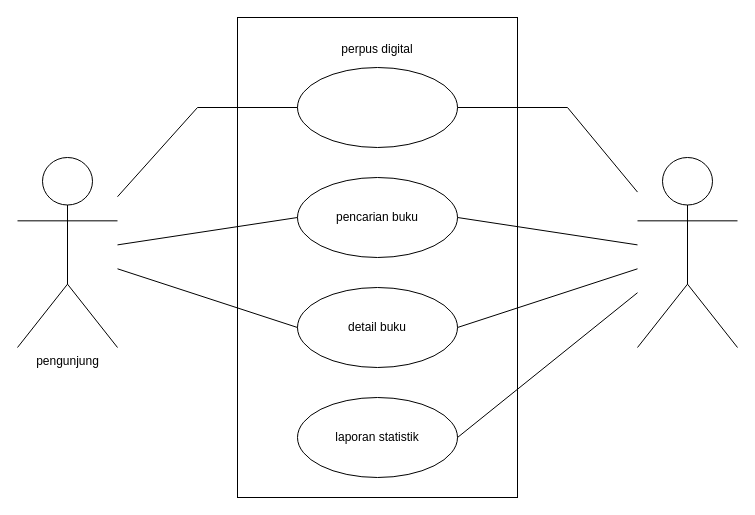
The diagram is 755 pixels wide and 515 high, and some of its shapes have lost their labels. The shapes that lost their labels are listed below. From the top down, each one's box as (x1, y1, x2, y2) in pixels, then its label:
(296, 66, 458, 148): form pengunjung
(636, 156, 738, 348): pustakawan
